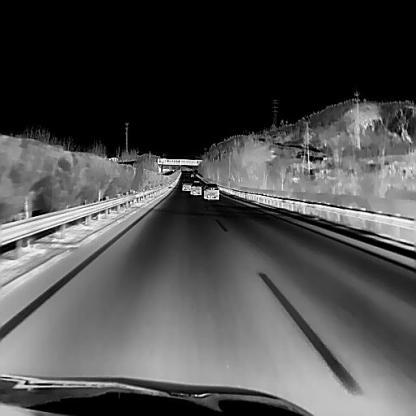car: (203, 182, 219, 199), (189, 181, 202, 194), (181, 179, 192, 190)
